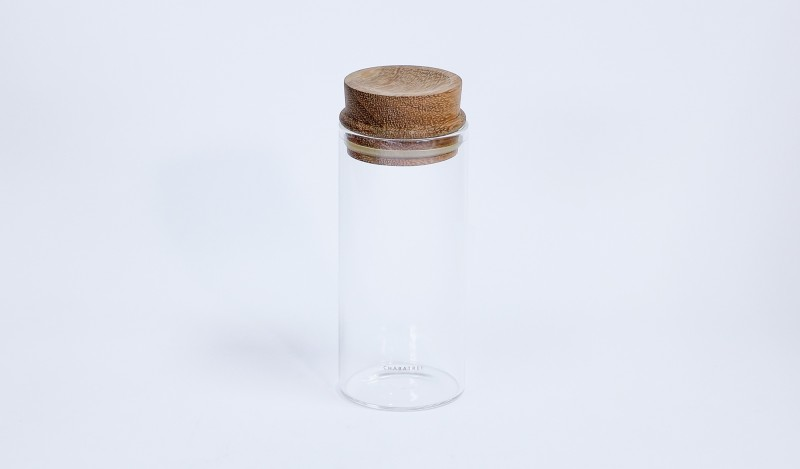glass_bottleww: (289, 25, 521, 448)
